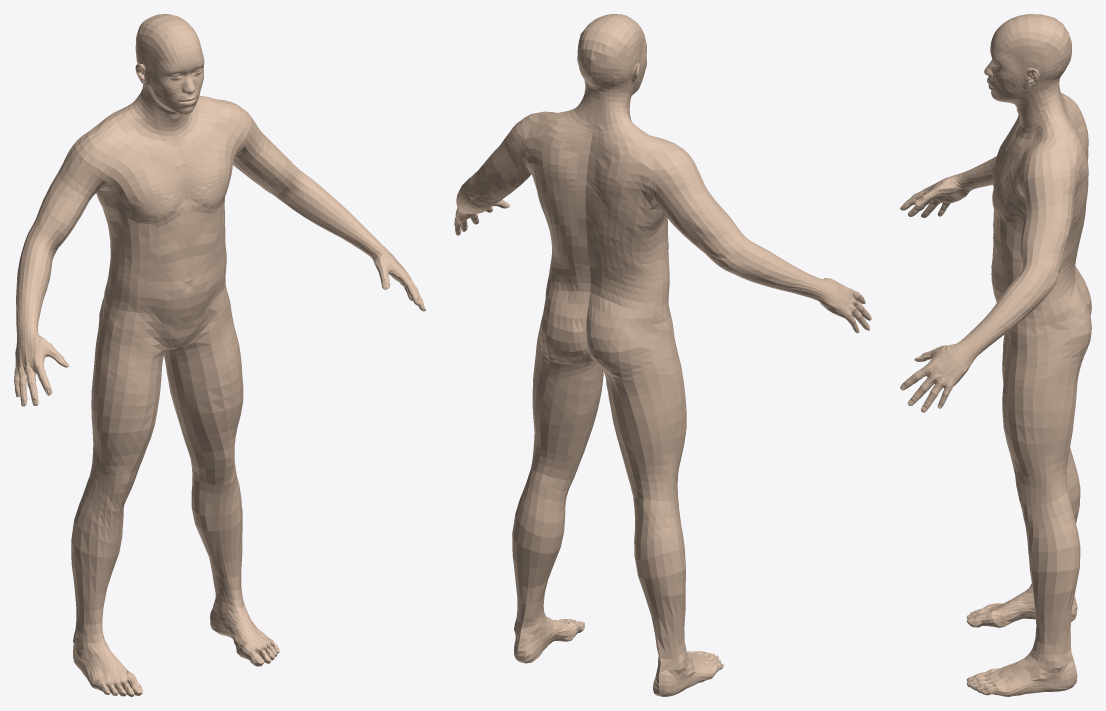
File: male-young-heavy-strong.glb
3 views of the same model, side by side, from view 1: azimuth 30°, elevation 25°; view 2: azimuth 150°, elevation 25°; view 3: azimuth 270°, elevation 25° (orthographic).
Visible parts, largest first — view 1: world; view 2: world; view 3: world.
Boxes of the visible parts, bbox=[...] form: world: bbox=[14, 14, 425, 696]; world: bbox=[454, 14, 871, 696]; world: bbox=[900, 14, 1091, 696].
Bounding box in the file's own units: 1.24 × 1.89 × 0.5141.
